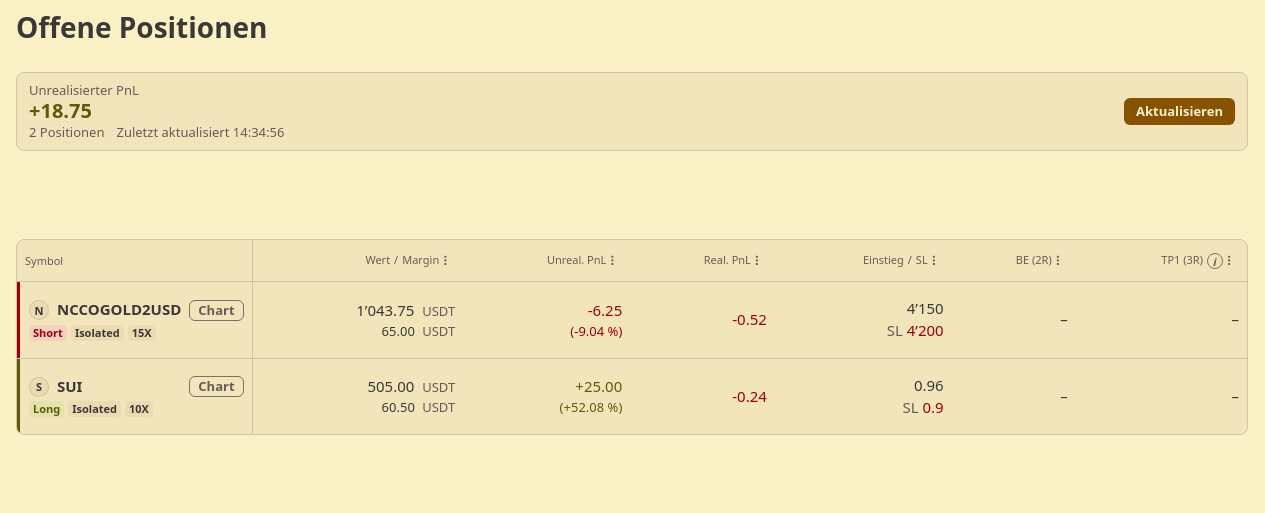
Test case: OpenPositionsPage Sortierung bleibt bei Fehler (AC6) › behält die gewählte Sortierung, wenn das Neuladen fehlschlägt (veraltet)
Expected: the table named "offene positionen" is shown, [17, 240, 1247, 434]
What coordinates should you click on to do the following:
click the button with aria-label "Symbol sortieren"
I would click on:
 (44, 261)
Its box is [25, 253, 63, 269].
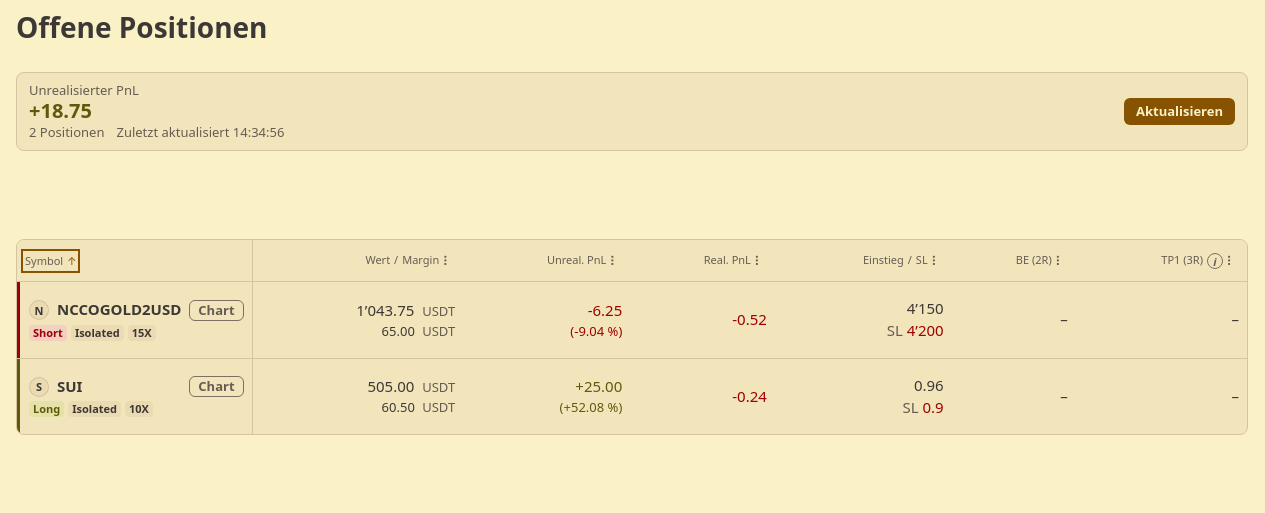
Now the column heading "Symbol ↑" has attribute aria-sort="ascending", box [17, 240, 252, 282]
What coordinates should you click on to do the following:
click the button "Aktualisieren"
I would click on:
 (1180, 111)
Its box is [1124, 98, 1235, 125].
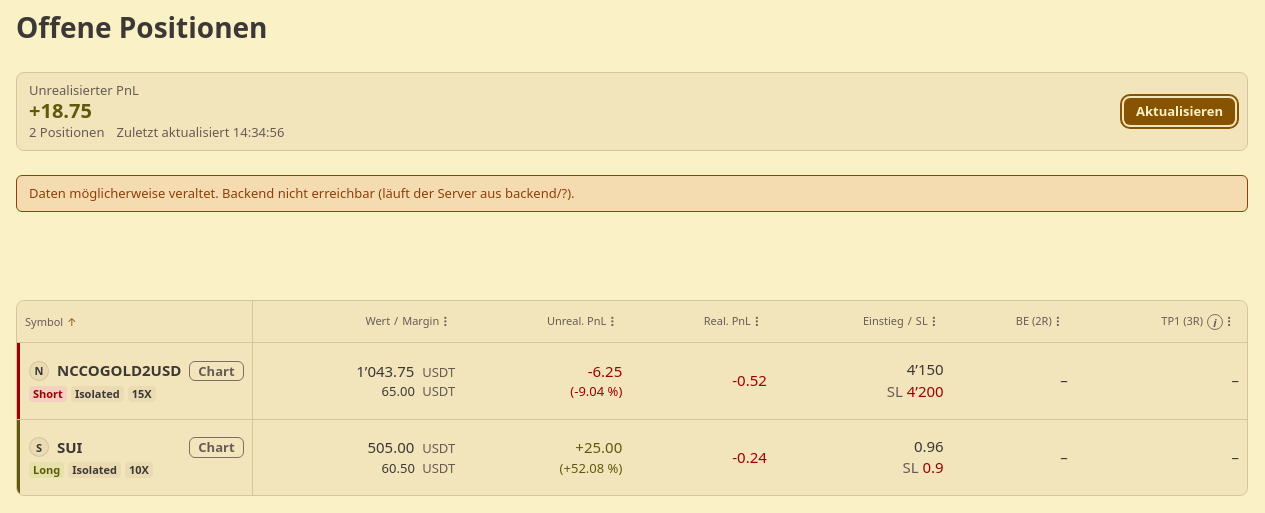
Now the text "möglicherweise veraltet" is shown, box [29, 184, 575, 202]
